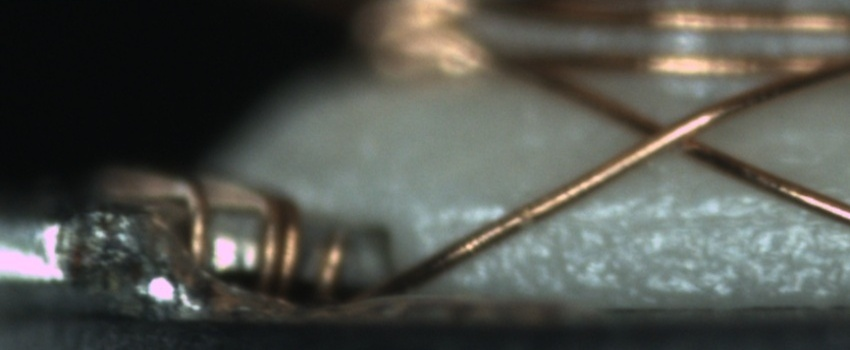CL: (616, 105, 721, 166)
DL: (405, 185, 805, 249)
TE: (93, 162, 352, 290)
